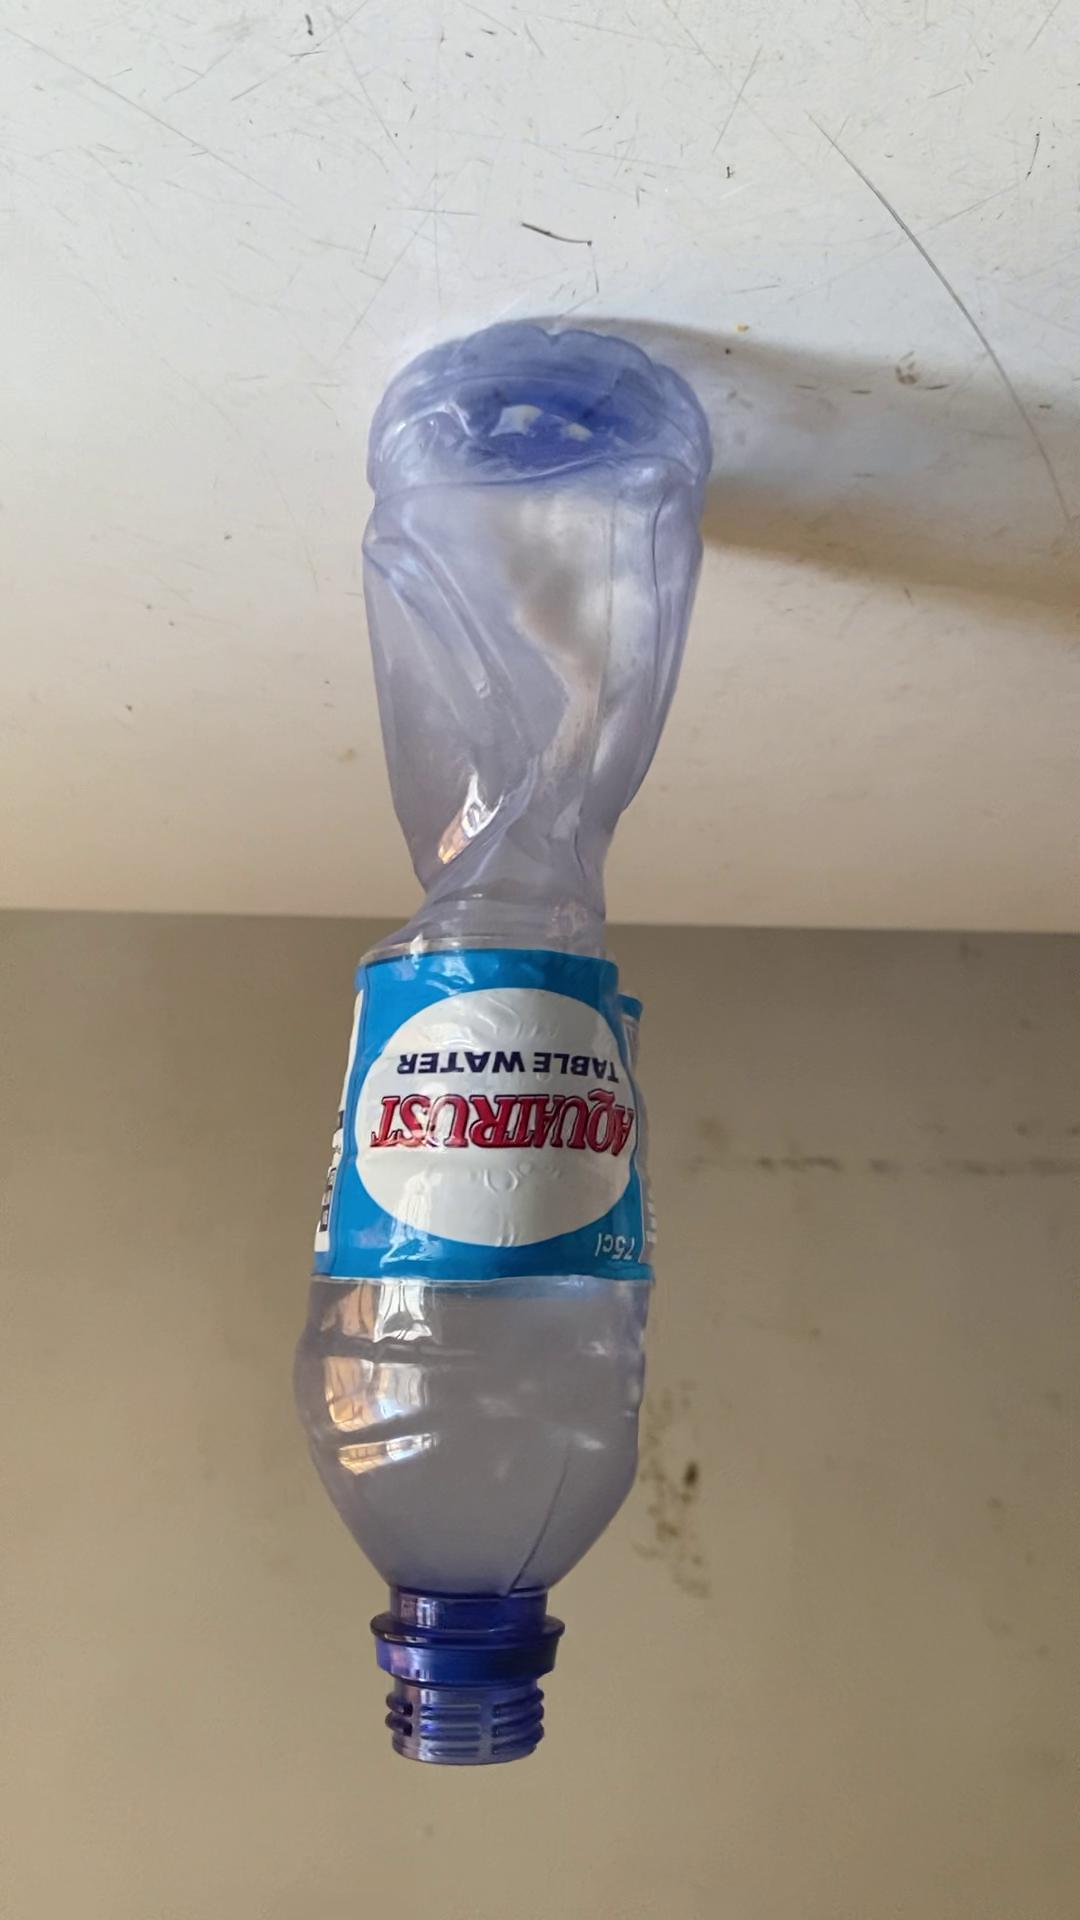crumbled: (280, 306, 723, 1782)
label: (336, 952, 655, 1286)
no-cap: (373, 1623, 563, 1770)
